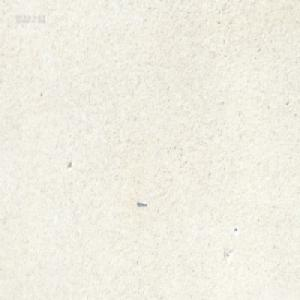Nail: (136, 199, 147, 207)
